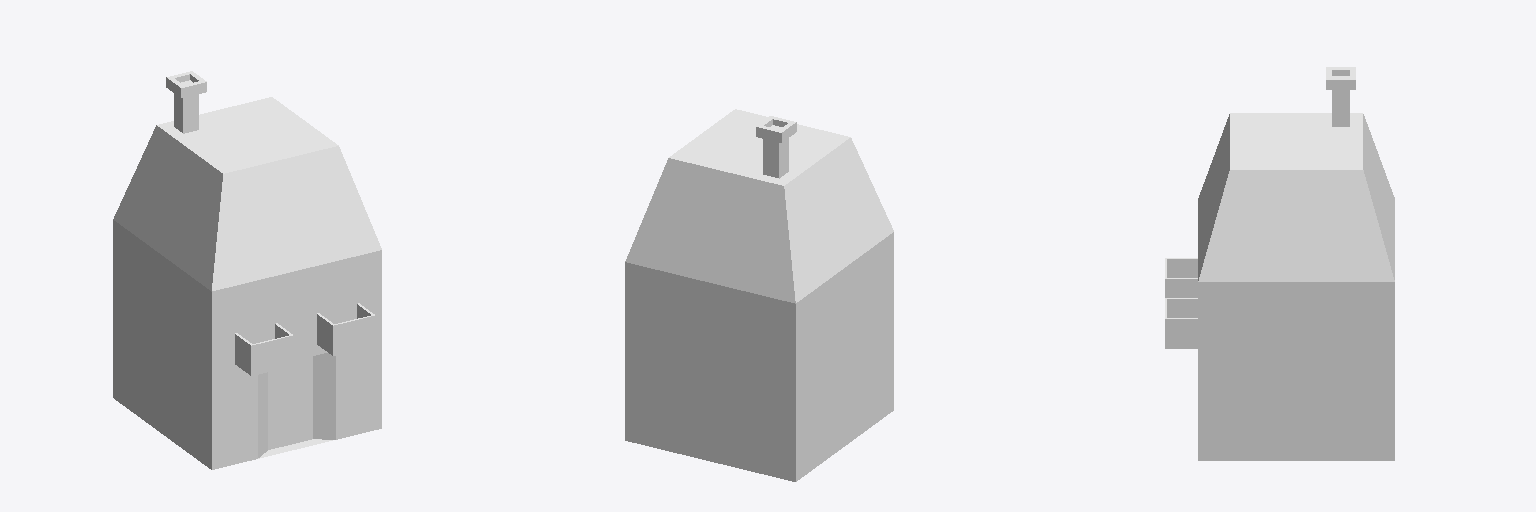
Rendered from building_07.obj.
3 renders of one model, left to right at view 1: azimuth 30°, elevation 25°; view 2: azimuth 150°, elevation 25°; view 3: azimuth 270°, elevation 25°, orthographic.
Parts seen in each view (by area): view 1: Cube3; view 2: Cube3; view 3: Cube3.
Part boxes in pixels (x1,y1,x2,y2): Cube3: (113, 71, 381, 469); Cube3: (625, 109, 893, 481); Cube3: (1165, 67, 1394, 460).
Bounding box in the file's own units: 274 × 501 × 320.